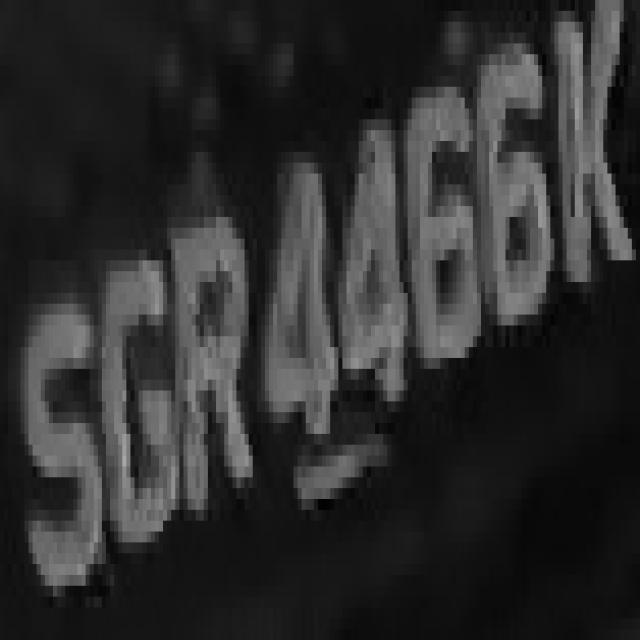4: (330, 65, 412, 488), (253, 108, 338, 499)
6: (396, 76, 485, 412), (477, 11, 554, 358)
G: (102, 217, 175, 597)
K: (554, 0, 640, 304)
R: (171, 195, 249, 521)
S: (12, 282, 98, 607)
